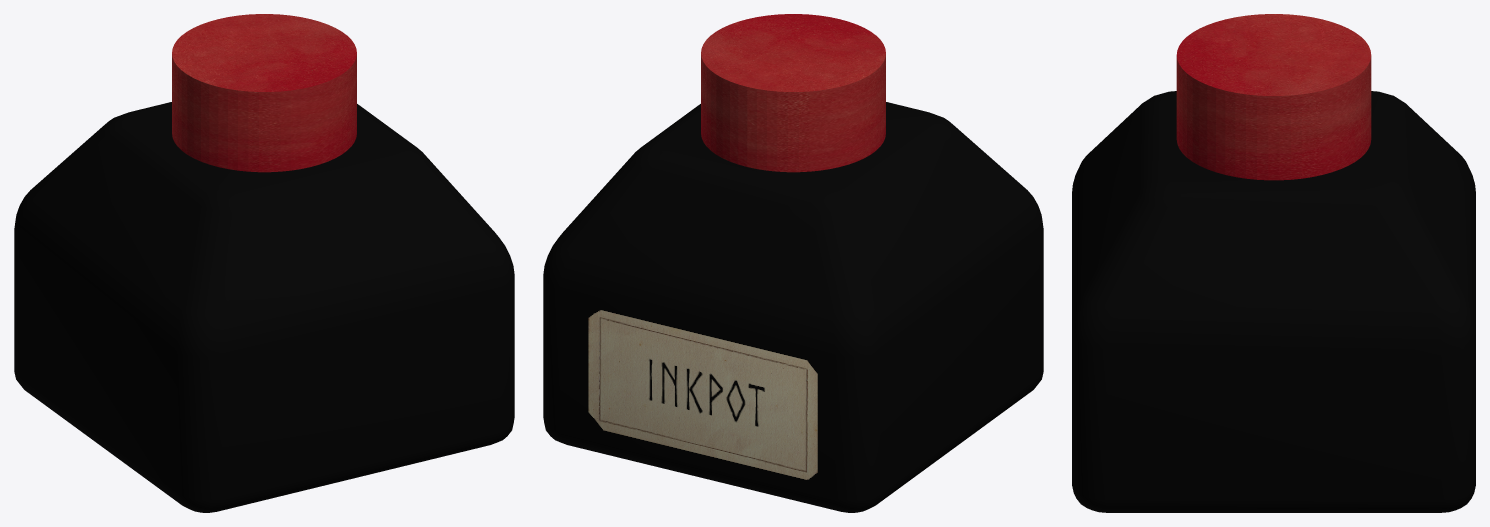
File: InkBottle.fbx
3 renders of one model, left to right at view 1: azimuth 30°, elevation 25°; view 2: azimuth 150°, elevation 25°; view 3: azimuth 270°, elevation 25°, orthographic. The views are drawn at different scales.
Parts seen in each view (by area): view 1: Cube; view 2: Cube; view 3: Cube.
Part boxes in pixels (bbox=[...]): Cube: bbox=[14, 14, 514, 512]; Cube: bbox=[543, 14, 1043, 512]; Cube: bbox=[1072, 14, 1475, 512].
Bounding box in the file's own units: 200 × 208 × 200.
